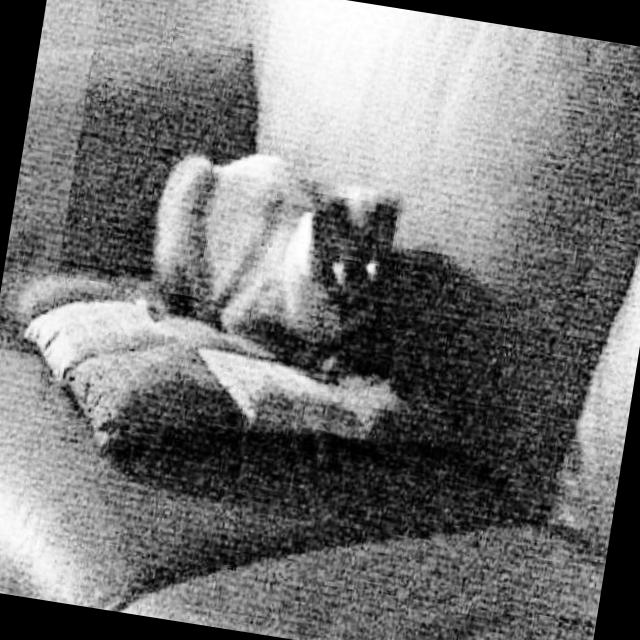Cat: (130, 133, 416, 390)
